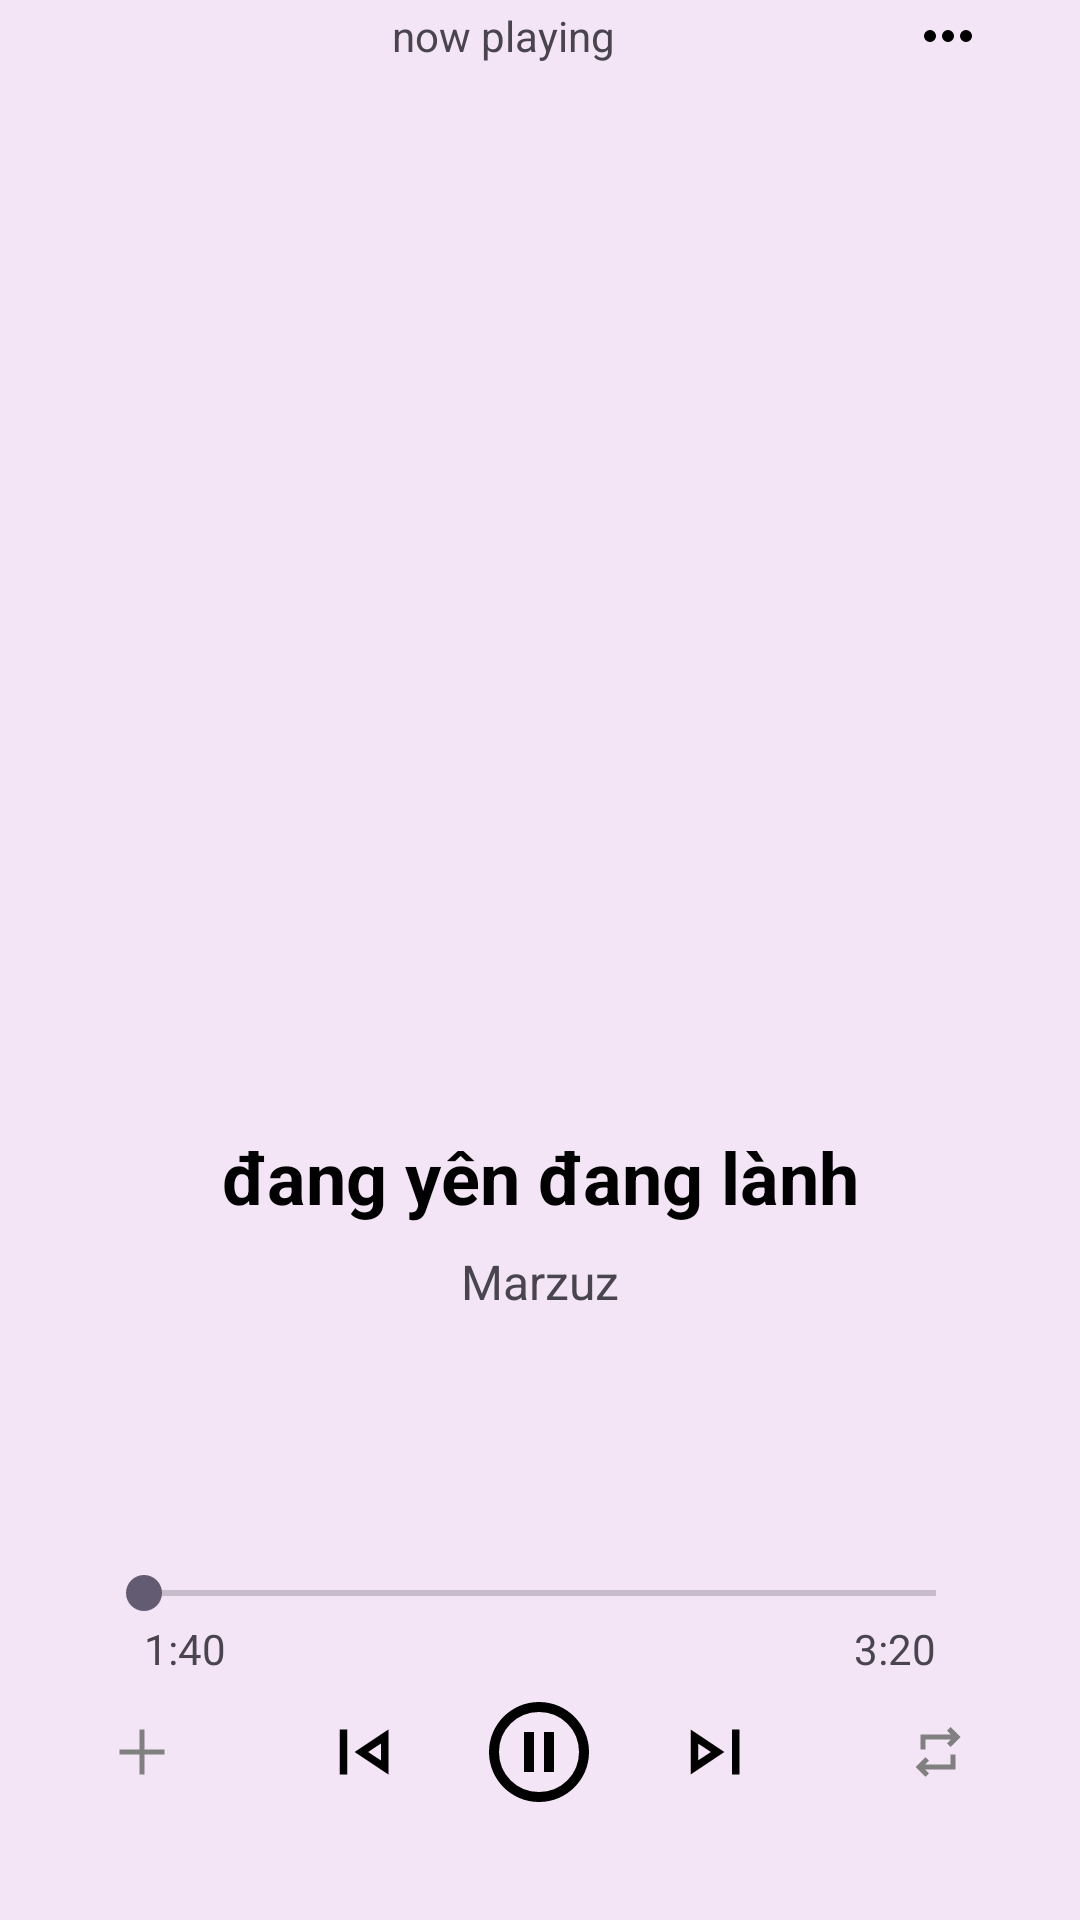

Icons on this 1080*1920 Android screen, each with the point to tap as (x,y):
add: (142,1752)
more horiz: (948,36)
pause circle: (539,1752)
repeat: (938,1752)
skip next: (715,1752)
skip previous: (364,1752)
